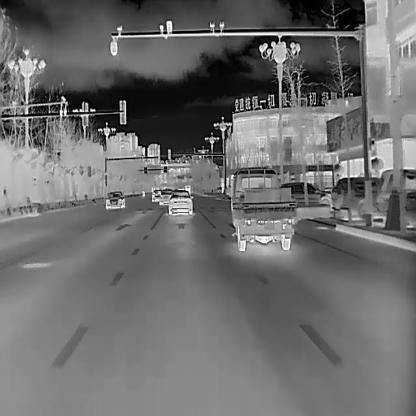car: (230, 165, 295, 251), (329, 176, 381, 211), (381, 166, 415, 204), (283, 181, 331, 205), (169, 189, 192, 214), (104, 190, 124, 208), (159, 191, 170, 203), (151, 189, 161, 202)
